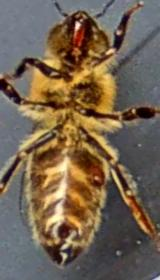varroa_mite: (79, 154, 111, 190)
